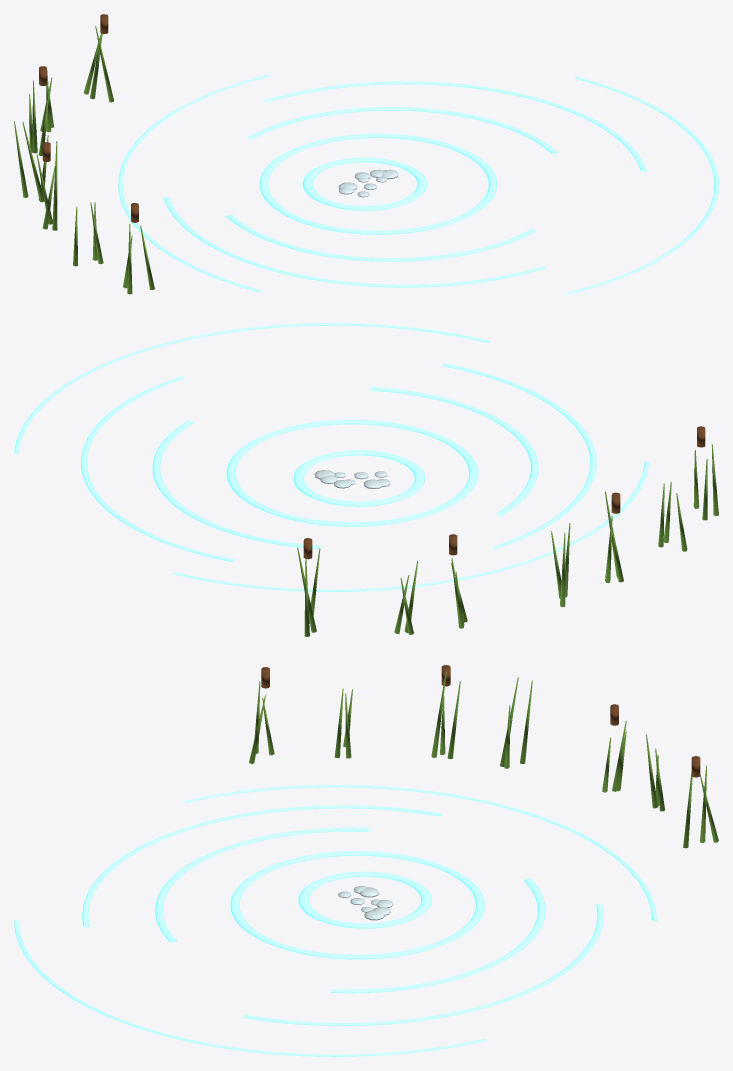
The model's file is fanggrund_kolk.glb.
The picture shows the model from 3 angles, top to bottom: view 1: azimuth 30°, elevation 25°; view 2: azimuth 150°, elevation 25°; view 3: azimuth 270°, elevation 25°; orthographic projection. The views are drawn at different scales.
Parts seen in each view (by area): view 1: Torus; view 2: Torus; view 3: Torus.
Part boxes in pixels (x1,y1,x2,y2): Torus: (14,14,718,294); Torus: (14,323,718,636); Torus: (14,665,718,1056).
Size of the model in its own units: 3.02 by 0.4053 by 2.87.
